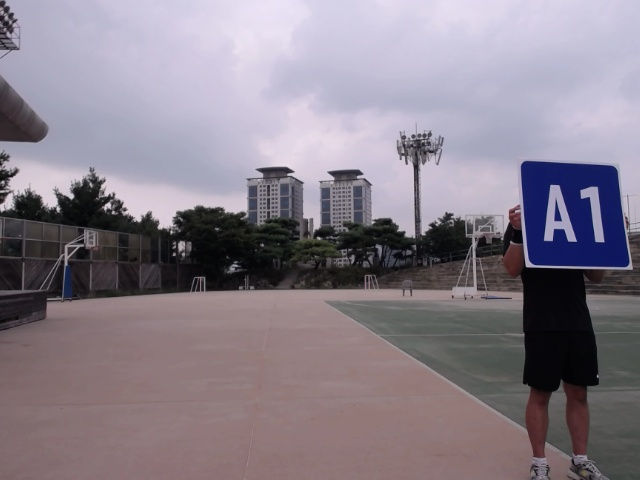delivery_a1: (520, 160, 631, 269)
